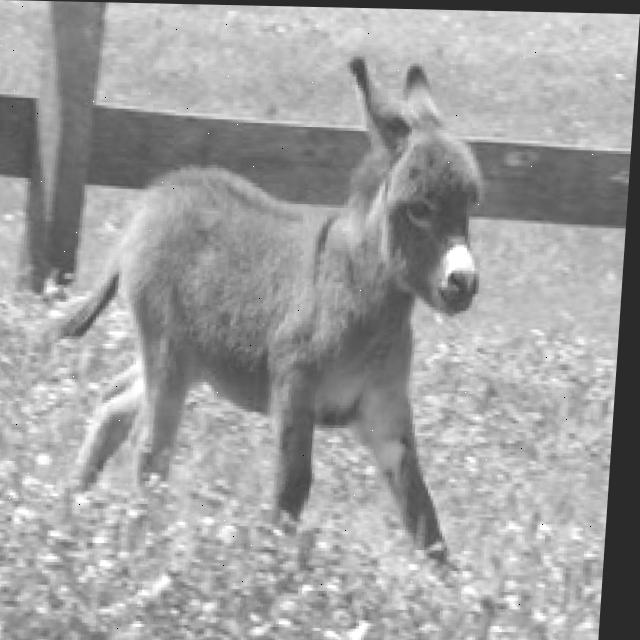Donkey: (25, 47, 494, 571)
